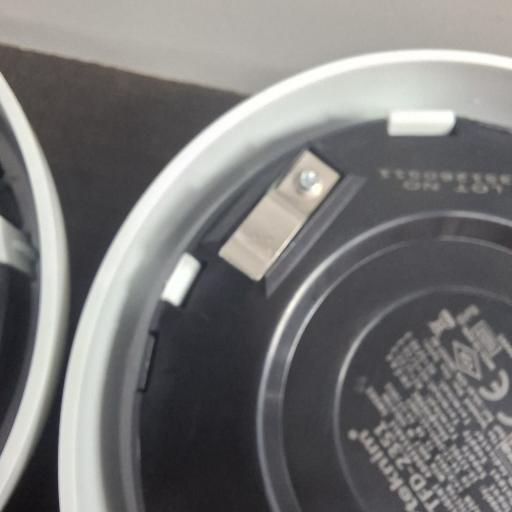yaysiz: (216, 148, 343, 283)
